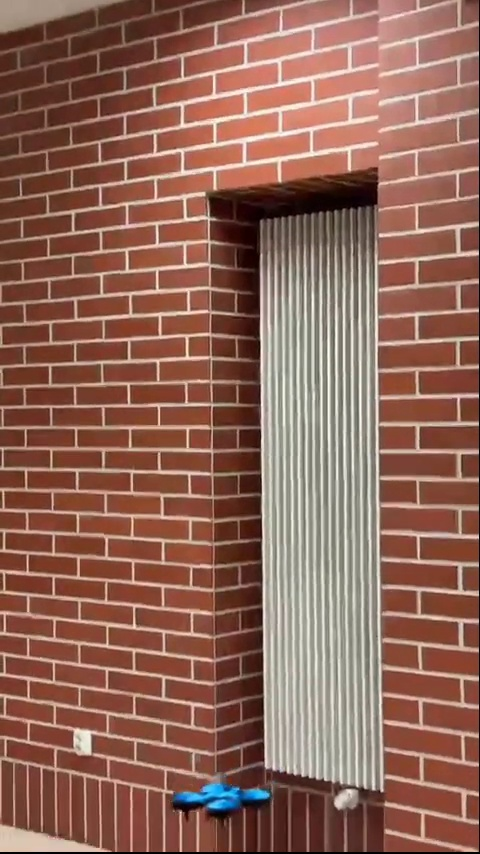drone: (171, 779, 270, 817)
